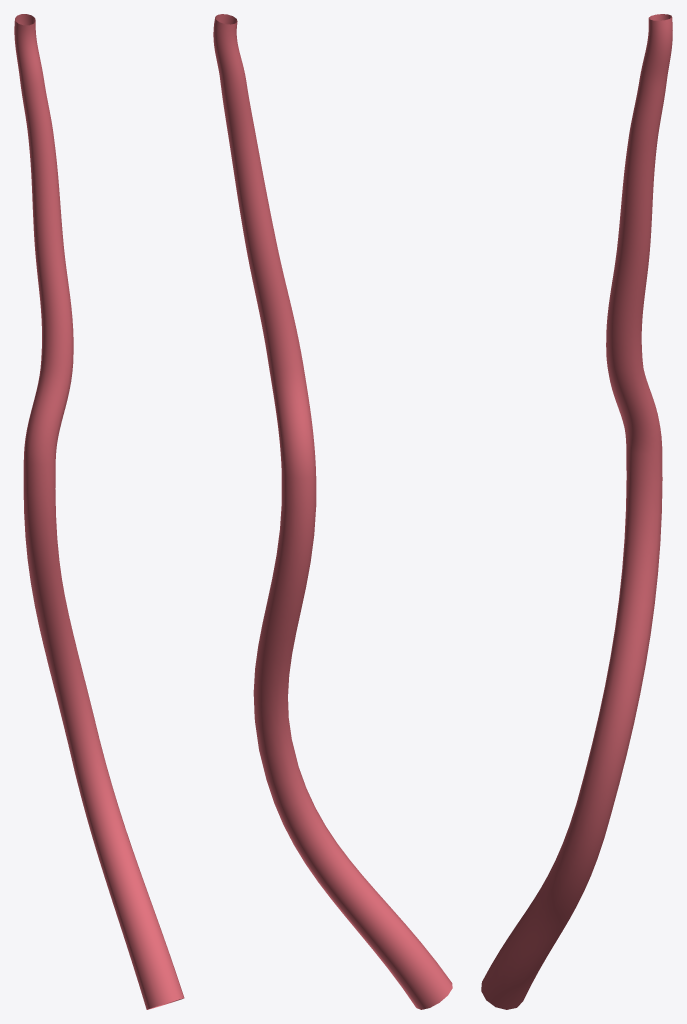
The picture shows the model from 3 angles, left to right: view 1: azimuth 90°, elevation 25°; view 2: azimuth 150°, elevation 25°; view 3: azimuth 270°, elevation 25°; orthographic projection. The views are drawn at different scales.
Visible parts, largest first — view 1: ZA_88a7c47b0d2e950e; view 2: ZA_88a7c47b0d2e950e; view 3: ZA_88a7c47b0d2e950e.
Boxes of the visible parts, x1=… form: ZA_88a7c47b0d2e950e: x1=14, y1=14, x2=184, y2=1009; ZA_88a7c47b0d2e950e: x1=213, y1=14, x2=452, y2=1009; ZA_88a7c47b0d2e950e: x1=481, y1=14, x2=672, y2=1009.
Bounding box in the file's own units: 0.0212 × 0.1275 × 0.021.
